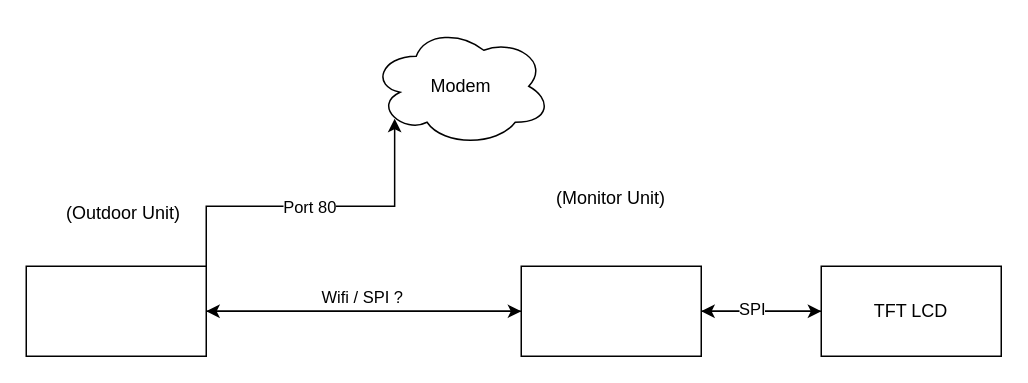
Some shapes in this 1028 by 383 pixel diagram are drawn without their labels. Here are the shapes that lost their labels. From the top down, the centre of each, then its label:
[115,310]: ESP32 - CAM
[610,310]: ESP32 - xxx
